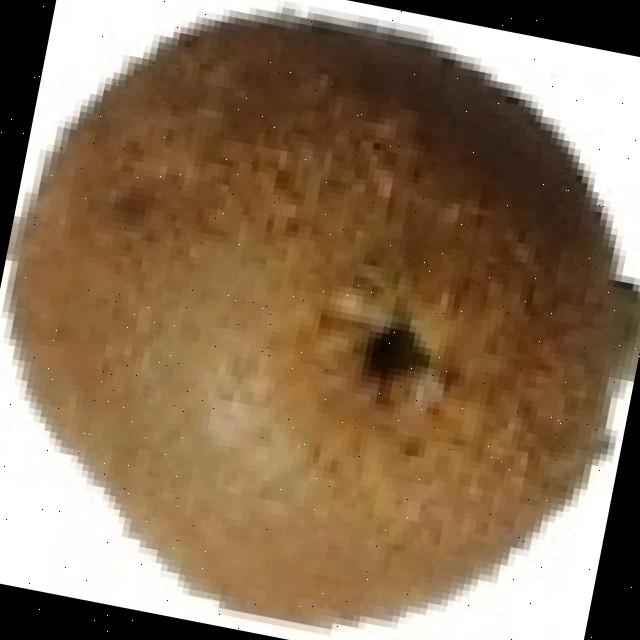kiwi: (1, 27, 635, 629)
